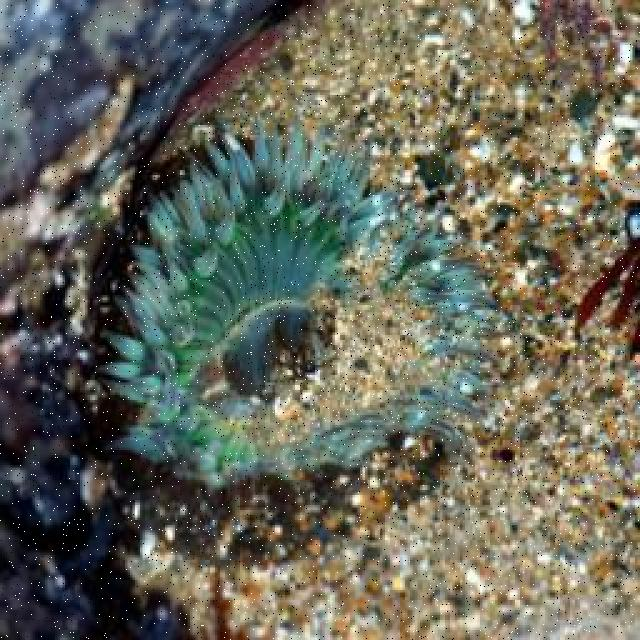reefs: (95, 108, 513, 499)
